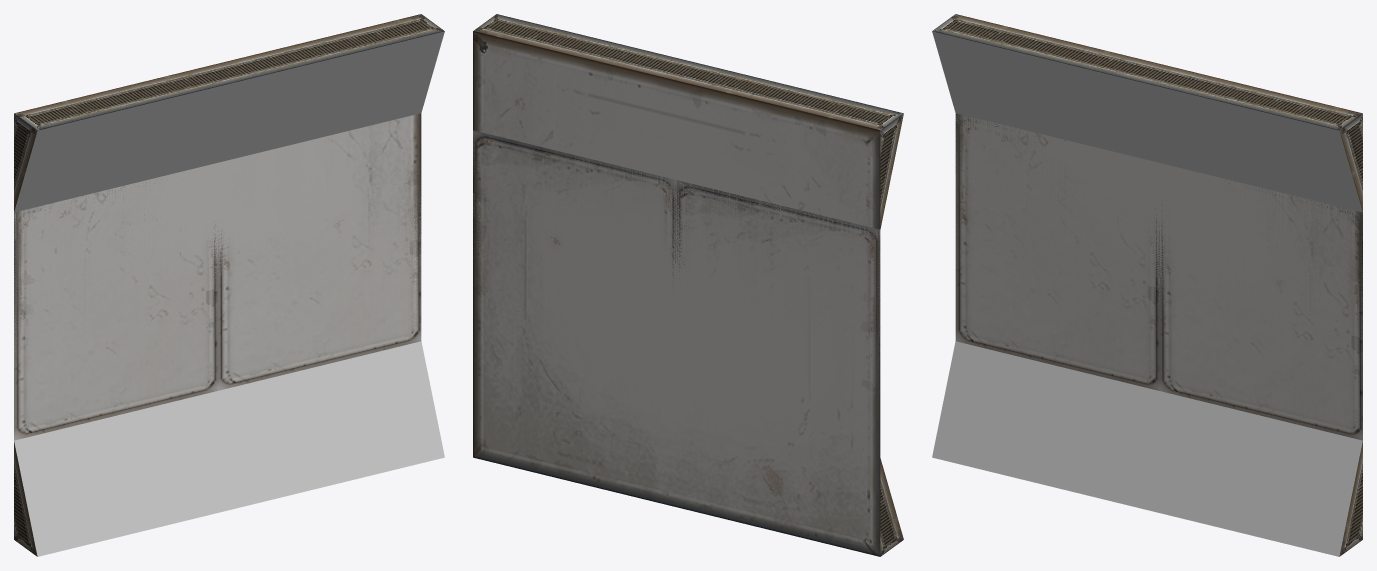
Rendered from scifi_wall9_11.FBX.
The picture shows the model from 3 angles, left to right: view 1: azimuth 30°, elevation 25°; view 2: azimuth 150°, elevation 25°; view 3: azimuth 330°, elevation 25°; orthographic projection.
Visible parts, largest first — view 1: Plane179; view 2: Plane179; view 3: Plane179.
Part boxes in pixels (bbox=[...]): Plane179: bbox=[14, 14, 444, 556]; Plane179: bbox=[473, 14, 903, 556]; Plane179: bbox=[932, 14, 1362, 556].
Size of the model in its own units: 254 by 254 by 25.4.
